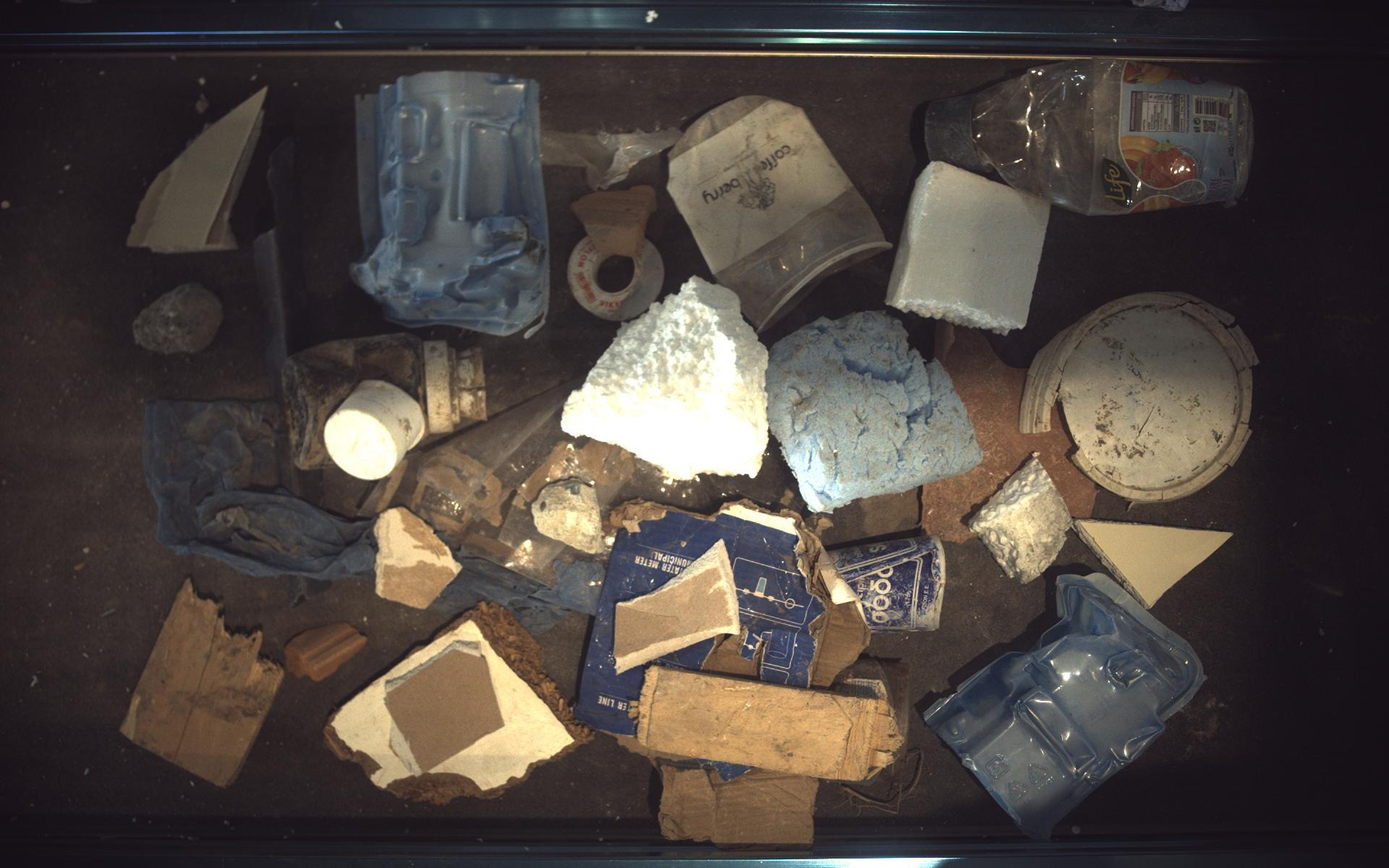brick: (572, 184, 657, 256), (284, 624, 367, 682)
concrete: (132, 283, 222, 354), (532, 478, 606, 555)
foam: (768, 311, 985, 512), (561, 276, 770, 480), (887, 161, 1053, 333), (972, 454, 1074, 584)
general_w: (577, 503, 872, 848), (355, 384, 804, 586), (926, 574, 1207, 840), (668, 95, 893, 331), (351, 70, 548, 336), (927, 58, 1256, 215), (1023, 292, 1261, 503), (142, 401, 377, 582), (282, 333, 486, 469), (438, 555, 606, 637), (831, 536, 948, 634), (323, 380, 425, 480), (542, 127, 683, 190), (834, 658, 912, 748)
gypsum_board: (126, 86, 266, 252), (614, 542, 741, 674), (384, 642, 505, 776), (1076, 520, 1236, 610), (374, 508, 462, 610)
plastic: (922, 322, 1099, 543), (252, 136, 307, 397), (567, 237, 666, 320), (270, 401, 323, 509), (285, 576, 330, 608)
wood: (324, 604, 594, 806), (119, 579, 284, 788), (637, 665, 904, 782)
